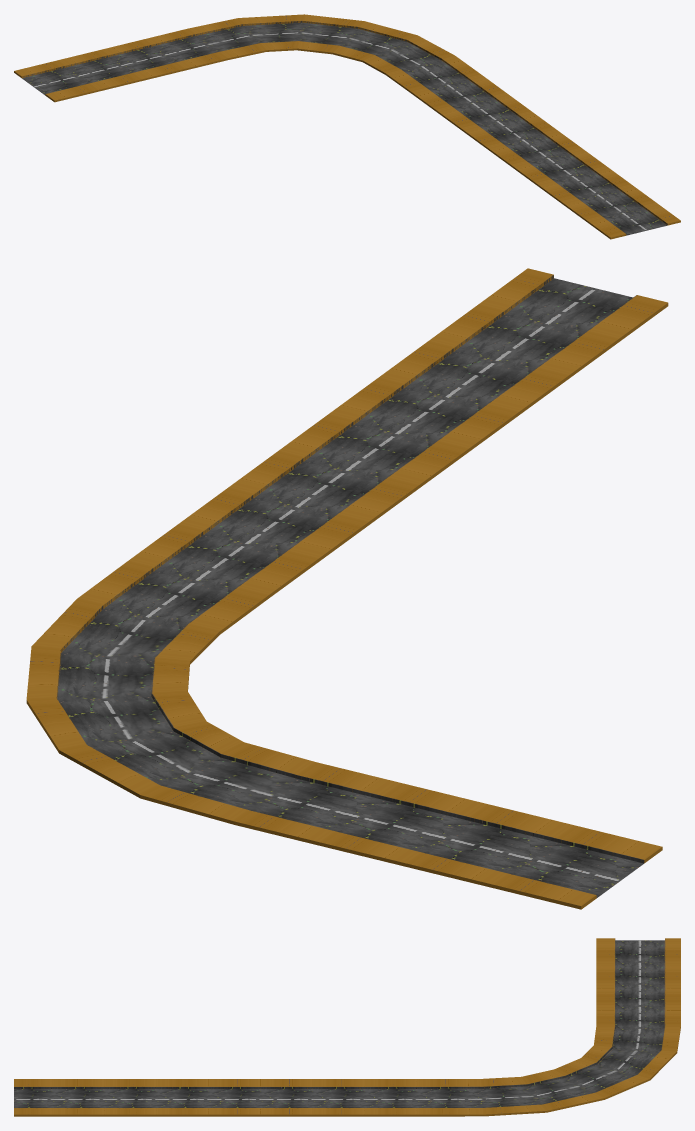
The model's file is FullRoad-col.glb.
3 views of the same model, one above another, from view 1: azimuth 30°, elevation 25°; view 2: azimuth 150°, elevation 25°; view 3: azimuth 270°, elevation 25° (orthographic). The views are drawn at different scales.
Visible parts, largest first — view 1: Road-col; view 2: Road-col; view 3: Road-col.
Part boxes in pixels (x1=…): Road-col: x1=14, y1=14, x2=680, y2=239; Road-col: x1=26, y1=268, x2=668, y2=909; Road-col: x1=14, y1=938, x2=680, y2=1116.
Bounding box in the file's own units: 16.01 × 0.077 × 25.59.
1 material, 1 textured.
